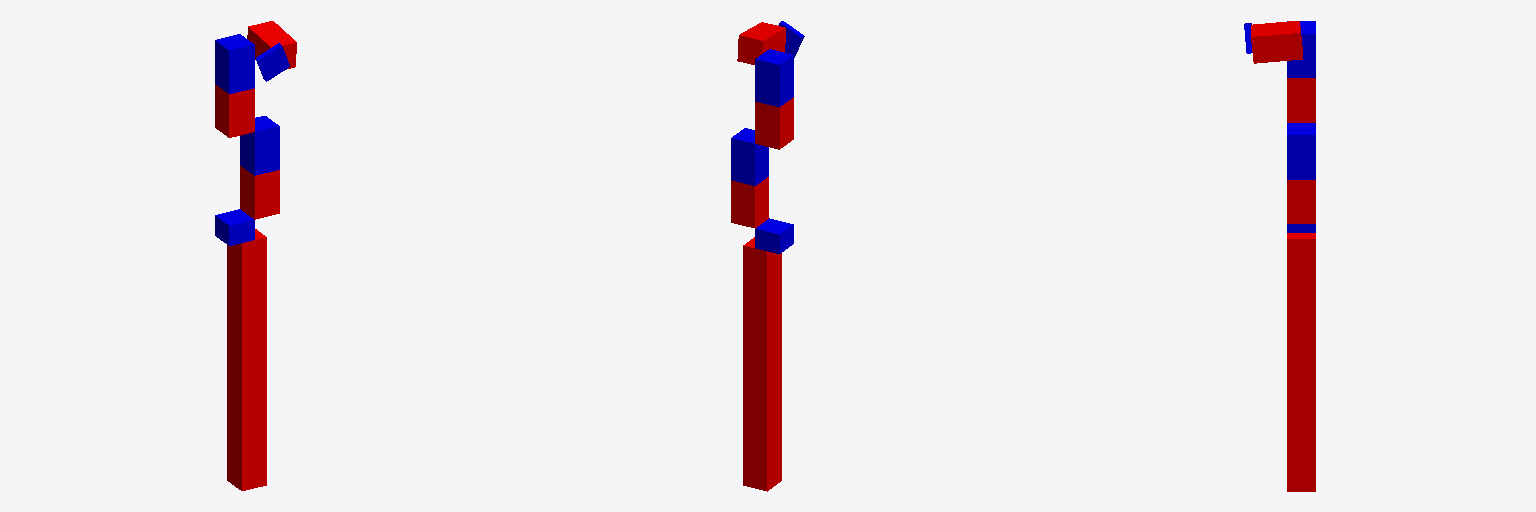
robot.urdf — armdemo:
<?xml version="1.0" ?>
<robot name="armdemo">

  <material name="red">
    <color rgba="1.0 0.0 0.0 1.0"/>
  </material>
  <material name="green">
    <color rgba="0.0 1.0 0.0 1.0"/>
  </material>
  <material name="blue">
    <color rgba="0.0 0.0 1.0 1.0"/>
  </material>

  <!-- base(world) -->
  <link name="base_link"/>
  
  <!-- base joint  -->
  <joint name="base_joint" type="fixed">
    <parent link="base_link"/>
    <child link="link1"/>
  </joint>
 
  <!-- Link1 link & joint -->
  <link name="link1">
    <collision>
      <origin rpy="0 0 0" xyz="0 0 0.425"/>
      <geometry>
        <box size="0.09 0.09 0.85"/>
      </geometry>
    </collision>
    <visual>
      <origin rpy="0 0 0" xyz="0 0 0.425"/>
      <geometry>
        <box size="0.09 0.09 0.85"/>
      </geometry>
      <material name="red"/>
    </visual>
    <inertial>
      <origin rpy="0 0 0" xyz="0 0 0"/>
      <mass value="50"/>
      <inertia ixx="0" ixy="0.1" ixz="0.0" iyy="1" iyz="0.0" izz="0.1"/>
    </inertial>
  </link>
   <joint name="joint1" type="revolute">
    <parent link="link1"/>
    <child link="link2"/>
    <origin rpy="0 0 0" xyz="0 0 0.85"/>
   
    <axis xyz="0 0 1"/>
    <dynamics damping="0.05"/>
    <limit effort="30" lower="-2.96" upper="2.96" velocity="1.74"/>
  </joint>
  
  <!-- Link2 link & joint -->
  <link name="link2">
    <collision>
      <origin rpy="0 0 0" xyz="-0.045 0 0.035"/>
      <geometry>
        <box size="0.09 0.09 0.07"/>
      </geometry>
    </collision>
    <visual>
      <origin rpy="0 0 0" xyz="-0.045 0 0.035"/>
      <geometry>
        <box size="0.09 0.09 0.07"/>
      </geometry>
      <material name="blue"/>
    </visual>
    <inertial>
      <origin rpy="0 0 0" xyz="0 0 0.1"/>
      <mass value="0.1"/>
      <inertia ixx="0.01" ixy="0.0" ixz="0.0" iyy="0.01" iyz="0.0" izz="0.01"/>
    </inertial>
  </link>
  <!-- joint2 -->
  <joint name="joint2" type="revolute">
    <parent link="link2"/>
    <child link="link3"/>
    <origin rpy="0 0 0" xyz="0 0 0.07"/>
   
    <axis xyz="1 0 0"/>
    <dynamics damping="0.05"/>
    <limit effort="30" lower="-1.91" upper="1.91" velocity="1.74"/>
  </joint>
  
  <!-- Link3 link & joint -->
 
  <link name="link3">
    <collision>
      <origin rpy="0 0 0" xyz="0.045 0 0.075"/>
      <geometry>
        <box size="0.09 0.09 0.15"/>
      </geometry>
    </collision>
    <visual>
      <origin rpy="0 0 0" xyz="0.045 0 0.075"/>
      <geometry>
        <box size="0.09 0.09 0.15"/>
      </geometry>
      <material name="red"/>
    </visual>
    <inertial>
      <origin rpy="0 0 0" xyz="0.045 0 0.1"/>
      <mass value="0.1"/>
       <inertia ixx="0.01" ixy="0.0" ixz="0.0" iyy="0.01" iyz="0.0" izz="0.01"/>
    </inertial>
  </link>
  <!-- joint3 -->
  <joint name="joint3" type="revolute">
    <parent link="link3"/>
    <child link="link4"/>
    <origin rpy="0 0 0" xyz="0 0 0.15"/>

    <axis xyz="0 0 1"/>
    <dynamics damping="0.1"/>
    <limit effort="30" lower="-2.87" upper="2.87" velocity="2.09"/>
  </joint>

  <!-- Link4 link & joint -->
 
  <link name="link4">
    <collision>
      <origin rpy="0 0 0" xyz="0.045 0 0.075"/>
      <geometry>
        <box size="0.09 0.09 0.15"/>
      </geometry>
    </collision>
    <visual>
      <origin rpy="0 0 0" xyz="0.045 0 0.075"/>
      <geometry>
        <box size="0.09 0.09 0.15"/>
      </geometry>
      <material name="blue"/>
    </visual>
    <inertial>
      <origin rpy="0 0 0" xyz="0 0 0.1"/>
      <mass value="0.1"/>
       <inertia ixx="0.01" ixy="0.0" ixz="0.0" iyy="0.01" iyz="0.0" izz="0.01"/>
    </inertial>
  </link>
  <joint name="joint4" type="revolute">
    <parent link="link4"/>
    <child link="link5"/>
    <origin rpy="0 0 0" xyz="0 0 0.15"/>
 
    <axis xyz="1 0 0"/>
    <dynamics damping="0.1"/>
    <limit effort="30" lower="-2.18" upper="2.18" velocity="2.09"/>
  </joint>

  <!-- Link5 link & joint -->
  <link name="link5">
        <collision>
      <origin rpy="0 0 0" xyz="-0.045 0 0.075"/>
      <geometry>
        <box size="0.09 0.09 0.15"/>
      </geometry>
    </collision>
    <visual>
      <origin rpy="0 0 0" xyz="-0.045 0 0.075"/>
      <geometry>
        <box size="0.09 0.09 0.15"/>
      </geometry>
      <material name="red"/>
    </visual>
    <inertial>
      <origin rpy="0 0 0" xyz="0 0 0.1"/>
      <mass value="0.1"/>
       <inertia ixx="0.01" ixy="0.0" ixz="0.0" iyy="0.01" iyz="0.0" izz="0.01"/>
    </inertial>
  </link>
  <joint name="joint5" type="revolute">
    <parent link="link5"/>
    <child link="link6"/>
    <origin rpy="0 0 0" xyz="0 0 0.15"/>
 
    <axis xyz="0 0 1"/>
    <dynamics damping="0.1"/>
    <limit effort="30" lower="-2.87" upper="2.87" velocity="2.79"/>
  </joint>
  
  <!-- Link6 link & joint -->
  
  <link name="link6">
    <collision>
      <origin rpy="0 0 0" xyz="-0.045 0 0.075"/>
      <geometry>
        <box size="0.09 0.09 0.15"/>
      </geometry>
    </collision>
    <visual>
      <origin rpy="0 0 0" xyz="-0.045 0 0.075"/>
      <geometry>
        <box size="0.09 0.09 0.15"/>
      </geometry>
      <material name="blue"/>
    </visual>
    <inertial>
      <origin rpy="0 0 0" xyz="0 0 0.1"/>
      <mass value="0.1"/>
       <inertia ixx="0.01" ixy="0.0" ixz="0.0" iyy="0.01" iyz="0.0" izz="0.01"/>
    </inertial>
  </link>
  <joint name="joint6" type="revolute">
    <parent link="link6"/>
    <child link="link7"/>
    <origin rpy="0 0 0" xyz="0 0 0.15"/>
    <axis xyz="1 0 0"/>
    <dynamics damping="0.1"/>
    <limit effort="30" lower="1.47" upper="1.86" velocity="2.79"/>
  </joint>

  <!-- Link7 link & joint -->
  <link name="link7">
    <collision>
      <origin rpy="0 0 0" xyz="0.045 0 0.075"/>
      <geometry>
        <box size="0.09 0.09 0.15"/>
      </geometry>
    </collision>
    <visual>
      <origin rpy="0 0 0" xyz="0.045 0 0.075"/>
      <geometry>
        <box size="0.09 0.09 0.15"/>
      </geometry>
      <material name="red"/>
    </visual>
    <inertial>
      <origin rpy="0 0 0" xyz="0 0 0.1"/>
      <mass value="0.1"/>
       <inertia ixx="0.01" ixy="0.0" ixz="0.0" iyy="0.01" iyz="0.0" izz="0.01"/>
    </inertial>
  </link>
  <joint name="joint7" type="revolute">
    <parent link="link7"/>
    <child link="link8"/>
    <origin rpy="0 0 0" xyz="0 0 0.15"/>
    <axis xyz="0 0 1"/>
    <dynamics damping="0.1"/>
    <limit effort="30" lower="-1.49" upper="-0.87" velocity="4.18"/>
  </joint>

 <!-- Link8 (end effector)-->
  <link name="link8">
    <collision>
      <origin rpy="0 0 0" xyz="0 0 0.01"/>
      <geometry>
        <box size="0.09 0.09 0.02"/>
      </geometry>
    </collision>
    <visual>
      <origin rpy="0 0 0" xyz="0 0 0.01"/>
      <geometry>
        <box size="0.09 0.09 0.02"/>
      </geometry>
      <material name="blue"/>
    </visual>
    <inertial>
      <origin rpy="0 0 0" xyz="0 0 0.01"/>
      <mass value="0.1"/>
        <inertia ixx="0.01" ixy="0.0" ixz="0.0" iyy="0.01" iyz="0.0" izz="0.01"/>
    </inertial>
  </link>

  <transmission name="link1_trans">
    <type>transmission_interface/SimpleTransmission</type>
      <joint name="joint1">
      <hardwareInterface>hardware_interface/EffortJointInterface</hardwareInterface>
    </joint>
    <actuator name="link1_motor">
      <hardwareInterface>hardware_interface/EffortJointInterface</hardwareInterface>
      <mechanicalReduction>1</mechanicalReduction>
    </actuator>
  </transmission>
  <transmission name="link2_trans">
    <type>transmission_interface/SimpleTransmission</type>
      <joint name="joint2">
      <hardwareInterface>hardware_interface/EffortJointInterface</hardwareInterface>
    </joint>
    <actuator name="link2_motor">
      <hardwareInterface>hardware_interface/EffortJointInterface</hardwareInterface>
      <mechanicalReduction>1</mechanicalReduction>
    </actuator>
  </transmission>
  <transmission name="link3_trans">
    <type>transmission_interface/SimpleTransmission</type>
      <joint name="joint3">
      <hardwareInterface>hardware_interface/EffortJointInterface</hardwareInterface>
    </joint>
    <actuator name="link3_motor">
      <hardwareInterface>hardware_interface/EffortJointInterface</hardwareInterface>
      <mechanicalReduction>1</mechanicalReduction>
    </actuator>
  </transmission>
  <transmission name="link4_trans">
    <type>transmission_interface/SimpleTransmission</type>
      <joint name="joint4">
      <hardwareInterface>hardware_interface/EffortJointInterface</hardwareInterface>
    </joint>
    <actuator name="link4_motor">
      <hardwareInterface>hardware_interface/EffortJointInterface</hardwareInterface>
      <mechanicalReduction>1</mechanicalReduction>
    </actuator>
  </transmission>
  <transmission name="link5_trans">
    <type>transmission_interface/SimpleTransmission</type>
      <joint name="joint5">
      <hardwareInterface>hardware_interface/EffortJointInterface</hardwareInterface>
    </joint>
    <actuator name="link5_motor">
      <hardwareInterface>hardware_interface/EffortJointInterface</hardwareInterface>
      <mechanicalReduction>1</mechanicalReduction>
    </actuator>
  </transmission>
  <transmission name="link6_trans">
    <type>transmission_interface/SimpleTransmission</type>
      <joint name="joint6">
      <hardwareInterface>hardware_interface/EffortJointInterface</hardwareInterface>
    </joint>
    <actuator name="link6_motor">
      <hardwareInterface>hardware_interface/EffortJointInterface</hardwareInterface>
      <mechanicalReduction>1</mechanicalReduction>
    </actuator>
  </transmission>
  <transmission name="link7_trans">
    <type>transmission_interface/SimpleTransmission</type>
      <joint name="joint7">
      <hardwareInterface>hardware_interface/EffortJointInterface</hardwareInterface>
    </joint>
    <actuator name="link7_motor">
      <hardwareInterface>hardware_interface/EffortJointInterface</hardwareInterface>
      <mechanicalReduction>1</mechanicalReduction>
    </actuator>
  </transmission>
  <gazebo>
    <plugin name="gazebo_ros_control" filename="libgazebo_ros_control.so">
      <robotNamespace>/</robotNamespace>
      <robotSimType>gazebo_ros_control/DefaultRobotHWSim</robotSimType>
      <legacyModeNS>true</legacyModeNS>
    </plugin>
  </gazebo>

</robot>

--- Facts derived from the render (not from the file) ---
Views: 3 orthographic renders of the robot side by side, from view 1: azimuth 30°, elevation 25°; view 2: azimuth 150°, elevation 25°; view 3: azimuth 270°, elevation 25°.
Robot: armdemo — 9 links, 8 joints (7 revolute, 1 fixed); root link base_link; default pose: joints at zero except 2 at the middle of their limits (joint6 = 1.67, joint7 = -1.18).
Links seen in each view (by area): view 1: link1, link6, link4, link3, link5, link7, link2, link8; view 2: link1, link6, link4, link5, link3, link7, link2; view 3: link1, link7, link4, link5, link3, link6.
Boxes of the visible links, x1,y1,x2,y2 form: link1: (227,229,266,490); link6: (215,34,254,93); link4: (240,116,279,175); link3: (240,166,279,219); link5: (215,84,254,137); link7: (247,21,296,69); link2: (215,209,254,245); link8: (255,43,289,81); link1: (743,237,781,491); link6: (755,49,793,106); link4: (731,128,768,185); link5: (755,97,793,149); link3: (731,177,768,228); link7: (737,22,785,64); link2: (755,218,793,253); link1: (1287,233,1315,491); link7: (1251,21,1302,63); link4: (1287,123,1315,179); link5: (1287,78,1315,122); link3: (1287,180,1315,223); link6: (1287,21,1315,77).
Bounding box of the posed robot: 0.18 × 0.2198 × 1.56 m (x, y, z).
Geometry: primitives only (box / cylinder / sphere), no mesh files.